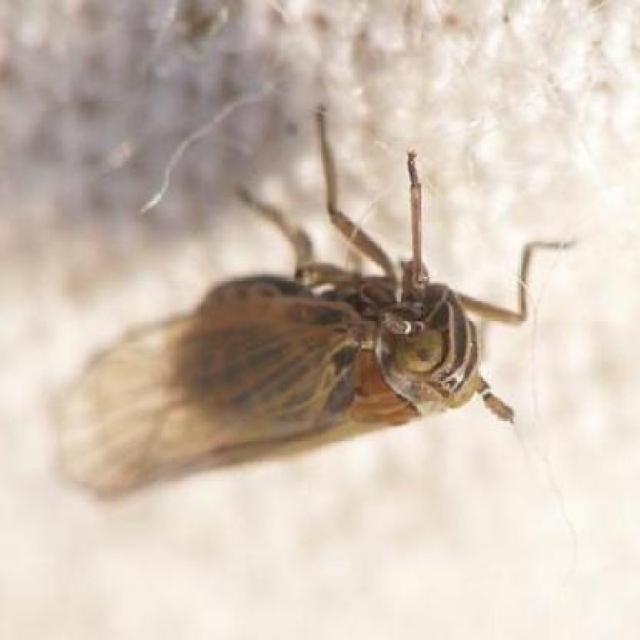brown-planthopper: (40, 239, 506, 513)
